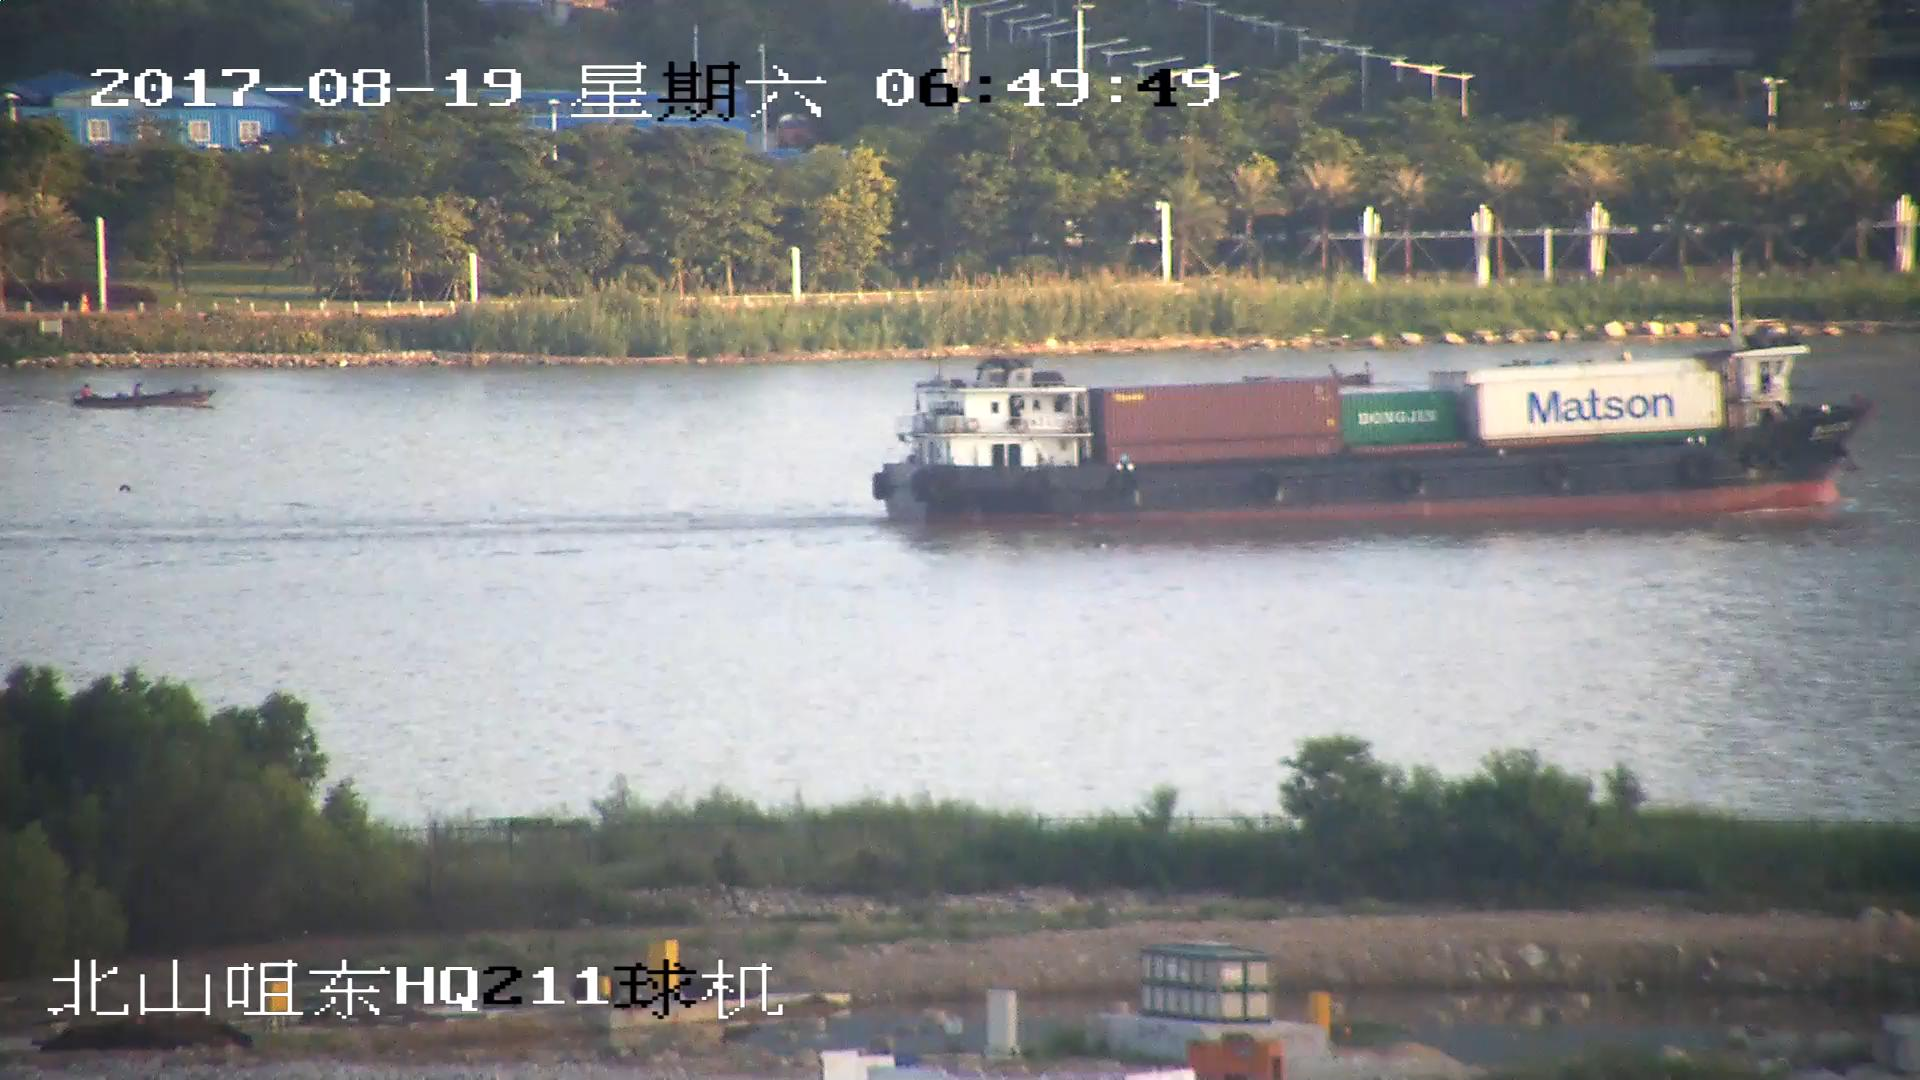container ship: (873, 254, 1869, 529)
fishing boat: (69, 371, 224, 412)
